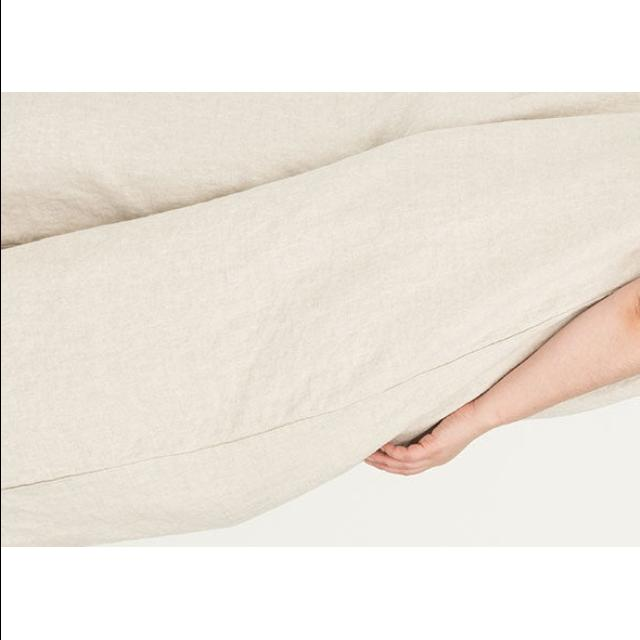linen: (0, 98, 366, 454)
